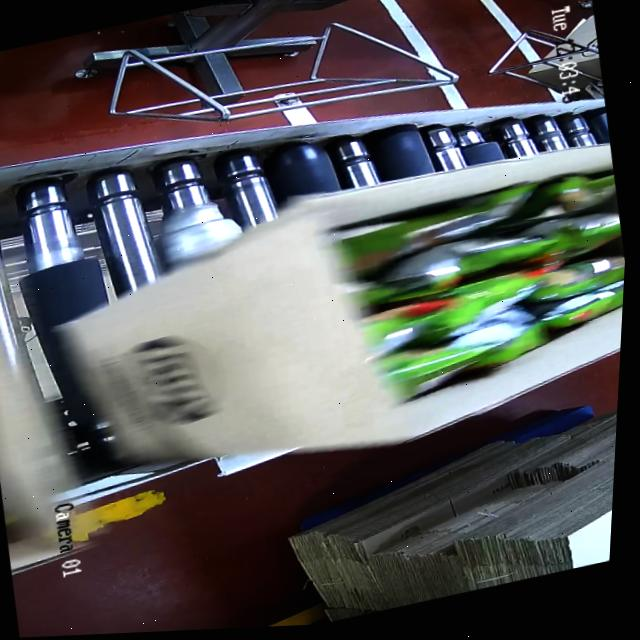YOGURT_HERB: (322, 170, 630, 378)
